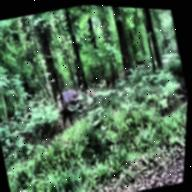boar: (51, 81, 96, 128)
